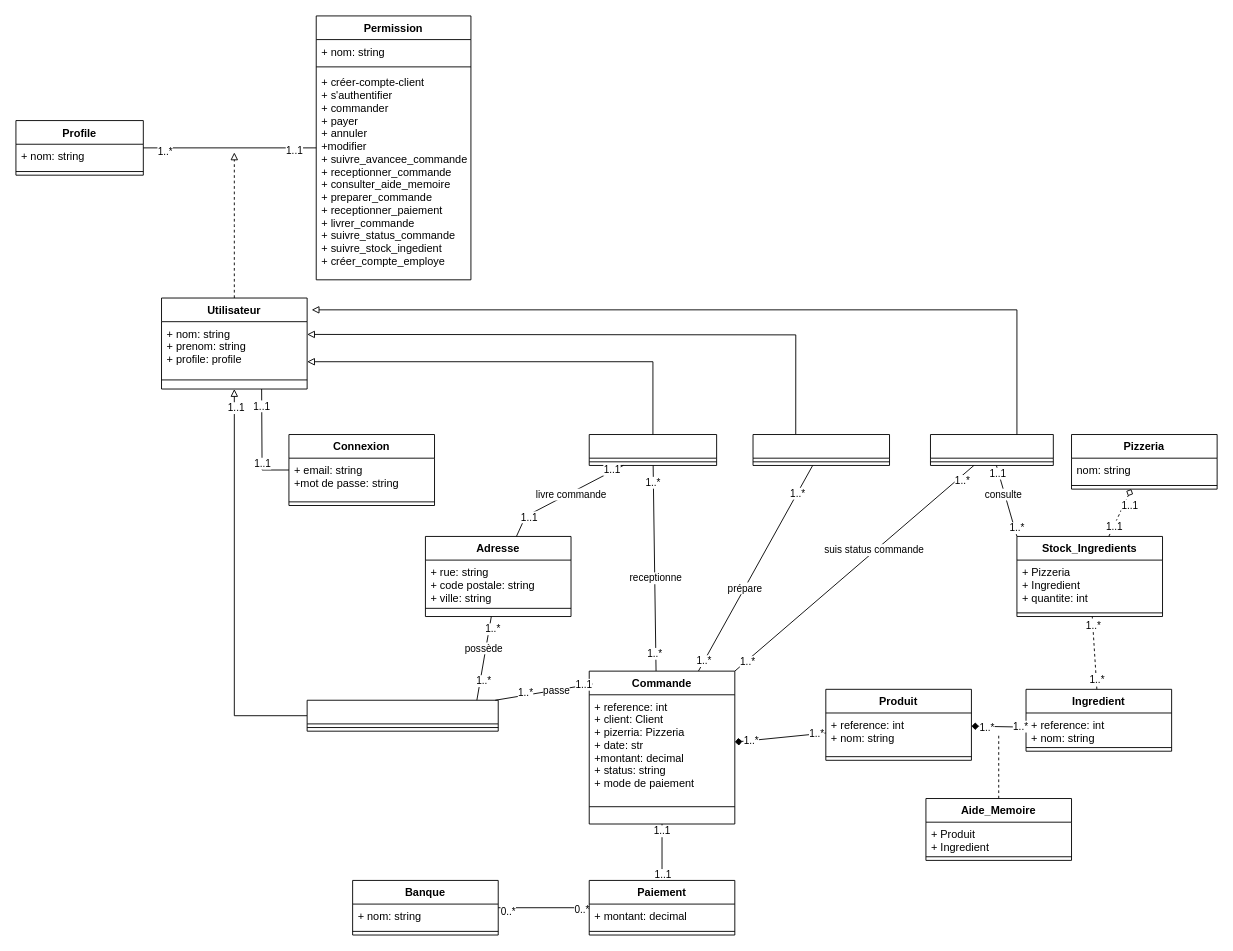
This 1233x951 diagram has some shape labels left out. The centre of each missing label's shape, as x and y in pixels:
"Client" goes at [402,715].
"Livreur" goes at [652,449].
"Pizzaiolo" goes at [821,449].
"Responsable" goes at [991,449].
